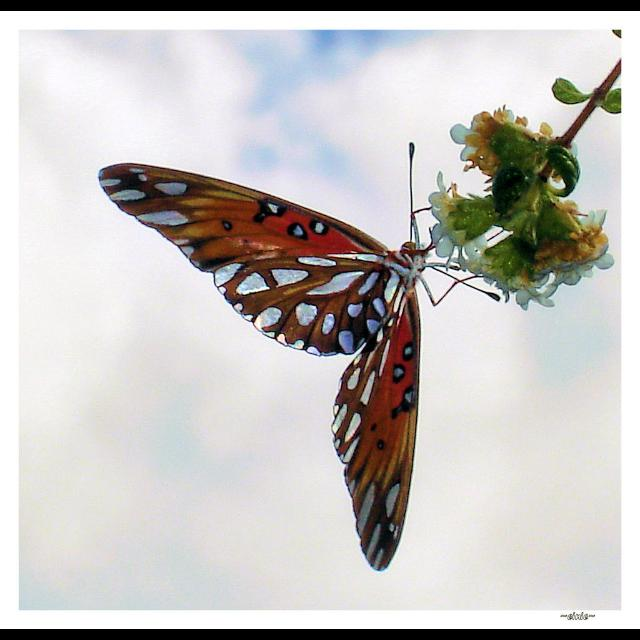Flower: (425, 168, 613, 316), (454, 85, 594, 233)
